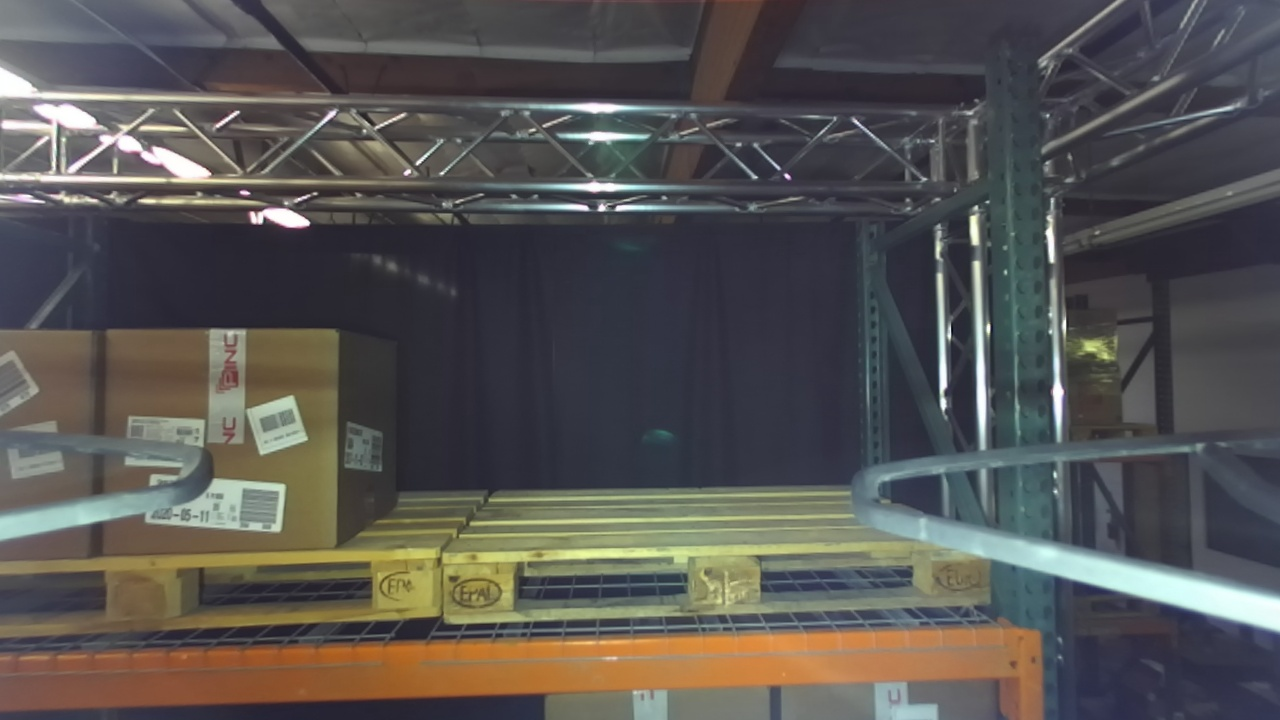box: (77, 301, 351, 579)
